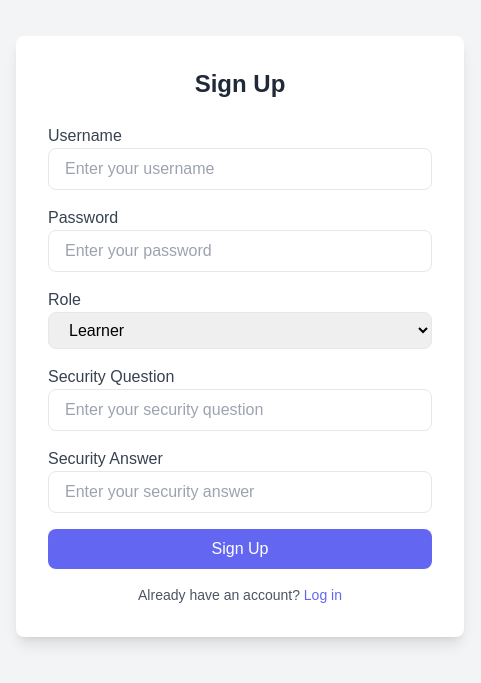
SignupPage › shows an error when fields are empty and signup is attempted
Click the button "Sign Up" at (240, 548), box [48,528,432,568]
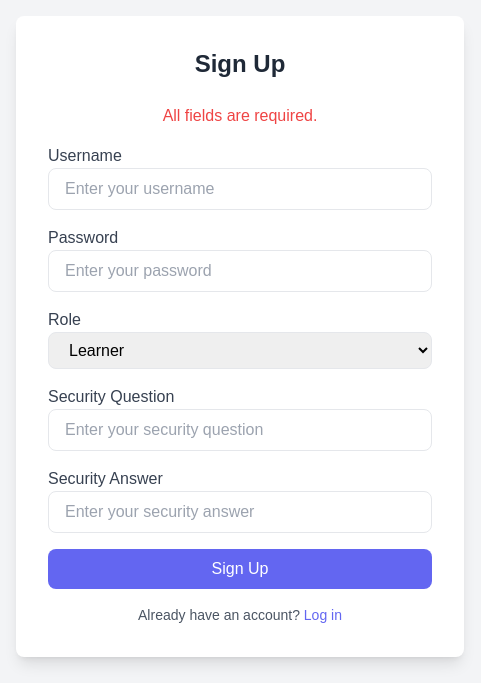
Now the text "All fields are required." is shown, box [163,106,317,124]
